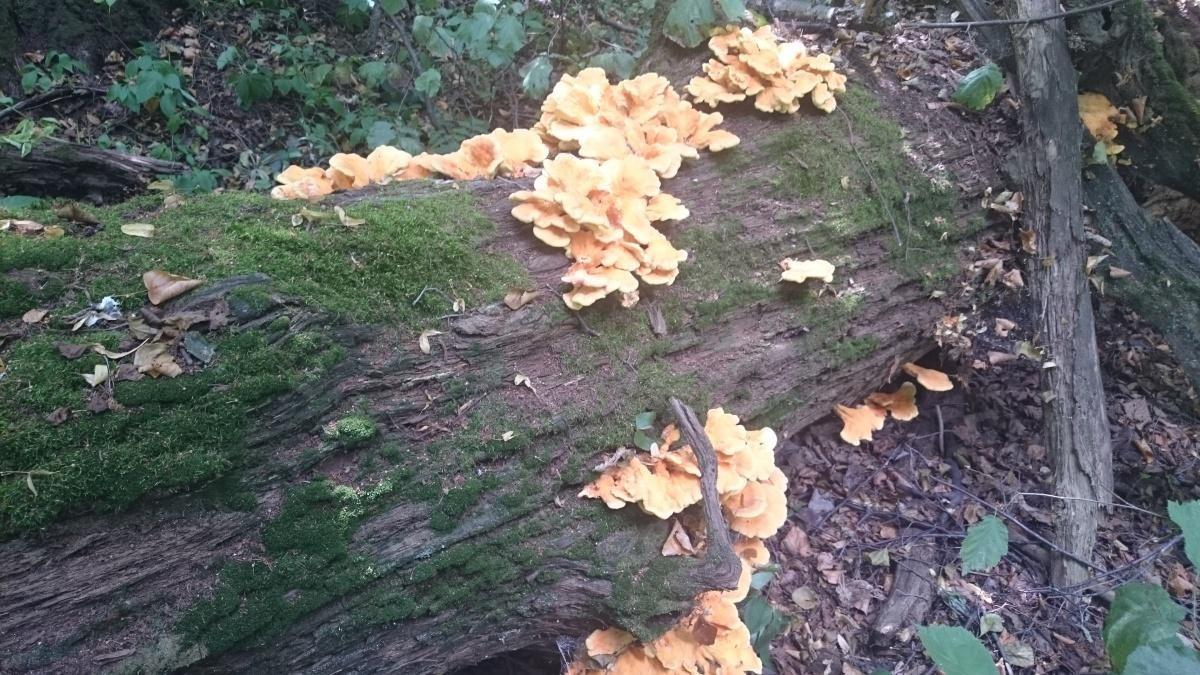Sulphur-yellow tinder fungus: (272, 68, 738, 309), (567, 408, 786, 674), (510, 154, 686, 308), (534, 68, 738, 177), (272, 129, 548, 200), (566, 591, 761, 674), (686, 25, 845, 112), (705, 408, 786, 538), (422, 129, 548, 179), (724, 467, 786, 537), (1079, 92, 1123, 155), (271, 166, 332, 200), (835, 404, 885, 445), (866, 382, 918, 420), (902, 362, 952, 391), (780, 258, 835, 283)
